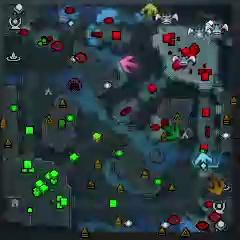x1: (120, 56, 139, 72)
x2: (141, 2, 158, 20)
x3: (195, 152, 212, 170)
x4: (163, 123, 180, 140)
x5: (209, 178, 225, 195)
